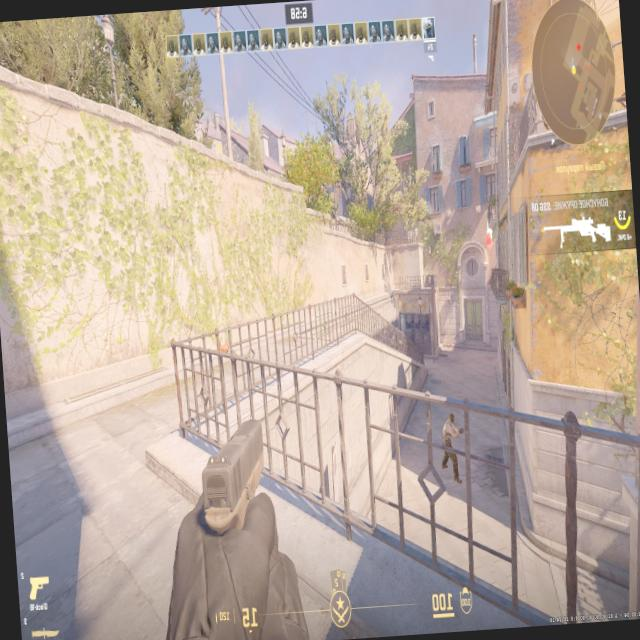T: (440, 416, 454, 467)
T_heat: (448, 417, 453, 427)
